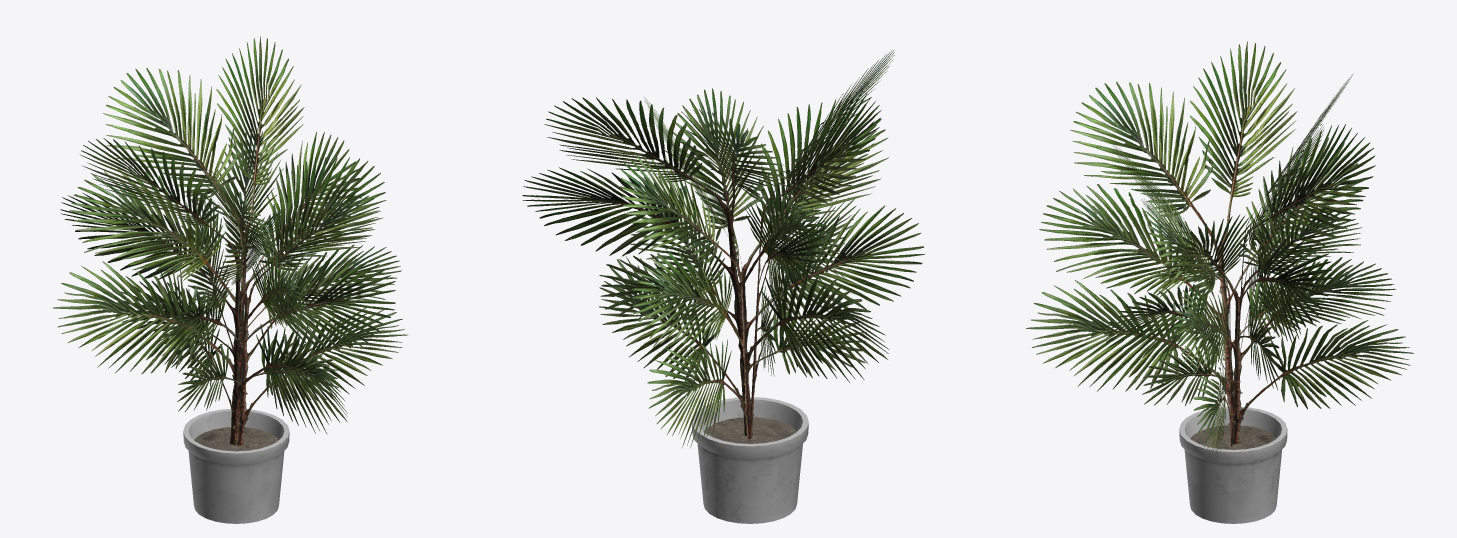
File: HH_Potted_Plant_06.fbx
The picture shows the model from 3 angles, left to right: view 1: azimuth 30°, elevation 25°; view 2: azimuth 150°, elevation 25°; view 3: azimuth 270°, elevation 25°; orthographic projection. The views are drawn at different scales.
Parts seen in each view (by area): view 1: HH_Potted_Plant_06_LOD0; view 2: HH_Potted_Plant_06_LOD0; view 3: HH_Potted_Plant_06_LOD0.
Boxes of the visible parts, left/top/right/bottom form: HH_Potted_Plant_06_LOD0: left=53, top=36, right=407, bottom=523; HH_Potted_Plant_06_LOD0: left=522, top=50, right=924, bottom=523; HH_Potted_Plant_06_LOD0: left=1026, top=41, right=1413, bottom=523.
Size of what is drawn, in the model's own units: 151 by 178 by 173.
